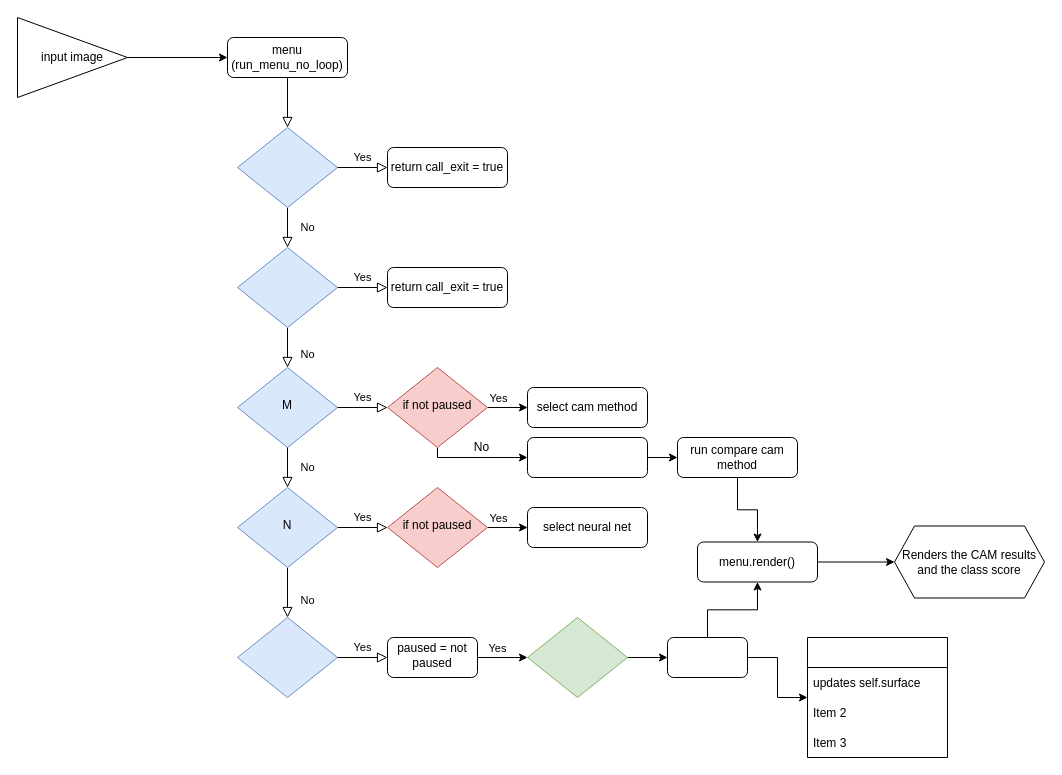
This 1062x775 diagram has some shape labels left out. Each missing label, with the box of its shape:
if pause: (526, 616, 628, 698)
Q / ESC: (236, 246, 338, 328)
Quit: (236, 126, 338, 208)
Results: (806, 636, 948, 758)
run_cam: (666, 636, 748, 678)
select cam method to compare: (526, 436, 648, 478)
SPACE: (236, 616, 338, 698)
